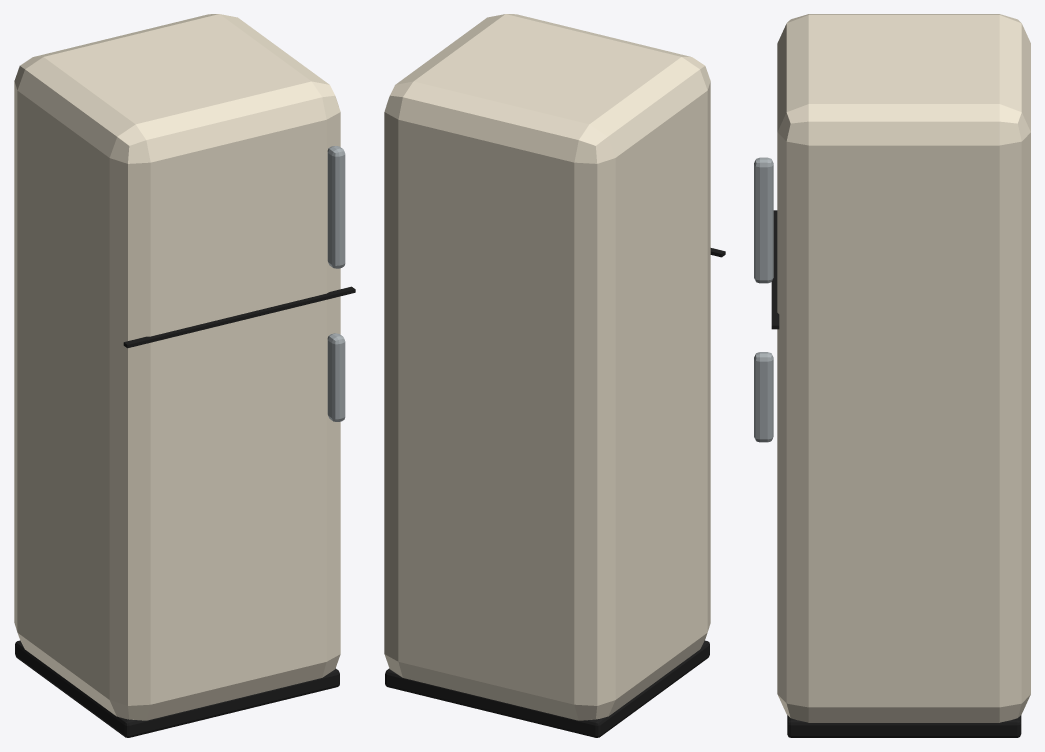
The model's file is frigo.glb.
The picture shows the model from 3 angles, left to right: view 1: azimuth 30°, elevation 25°; view 2: azimuth 150°, elevation 25°; view 3: azimuth 270°, elevation 25°; orthographic projection. The views are drawn at different scales.
Parts seen in each view (by area): view 1: Cube, Cube.004, Cube.002, Cube.003, Cube.001; view 2: Cube, Cube.004; view 3: Cube, Cube.004, Cube.002, Cube.003, Cube.001.
Part boxes in pixels (x1,y1,x2,y2): Cube: (14,14,340,720); Cube.004: (15,640,339,737); Cube.002: (327,146,345,268); Cube.003: (327,333,345,421); Cube.001: (123,286,355,348); Cube: (384,14,710,720); Cube.004: (385,640,709,737); Cube: (777,14,1030,722); Cube.004: (787,715,1021,737); Cube.002: (754,157,773,283); Cube.003: (754,352,773,442); Cube.001: (771,210,779,329).
Bounding box in the file's own units: 0.7 × 1.77 × 0.71.
